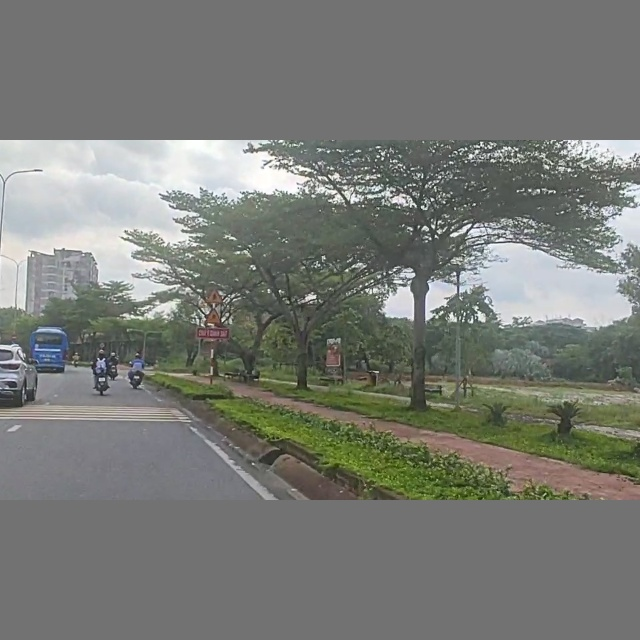W.207: (203, 286, 225, 305)
W.224: (202, 307, 227, 327)
